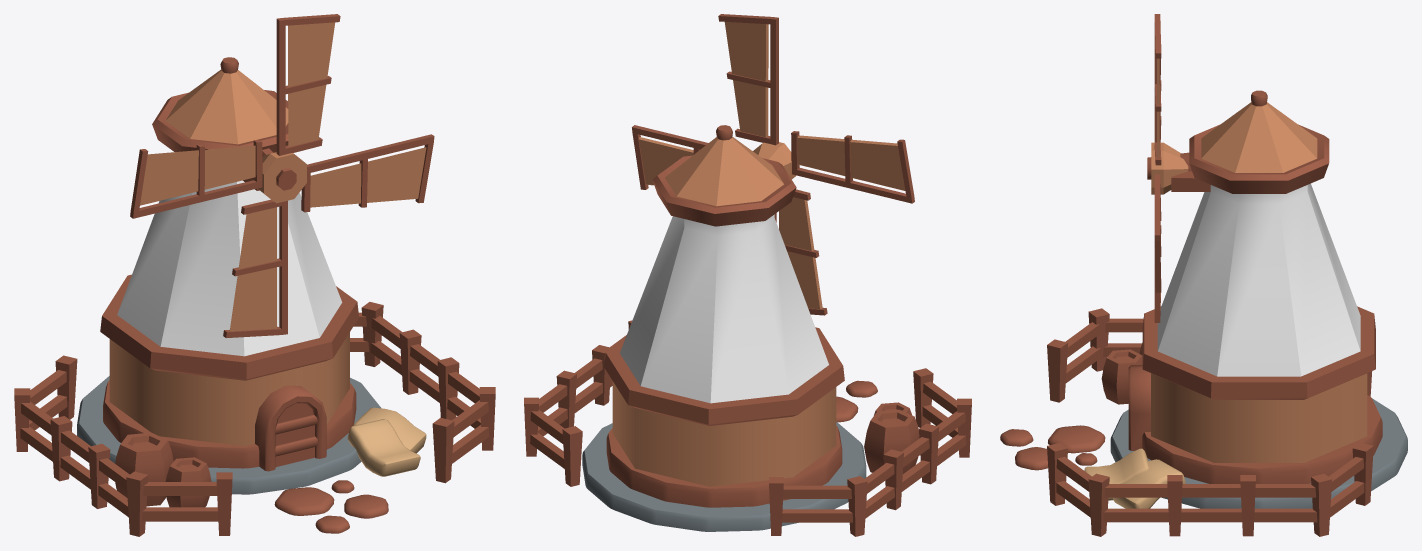
The model's file is mill.glb.
The picture shows the model from 3 angles, left to right: view 1: azimuth 30°, elevation 25°; view 2: azimuth 150°, elevation 25°; view 3: azimuth 270°, elevation 25°; orthographic projection. The views are drawn at different scales.
Parts seen in each view (by area): view 1: mill; view 2: mill; view 3: mill.
Part boxes in pixels (bbox=[...]): mill: bbox=[14, 14, 495, 536]; mill: bbox=[524, 14, 971, 536]; mill: bbox=[1000, 14, 1407, 536].
Bounding box in the file's own units: 1.69 × 1.98 × 1.67.
